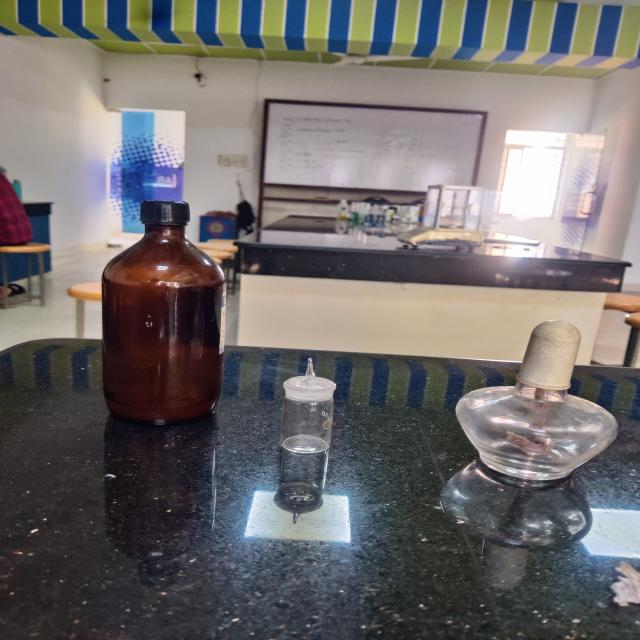Nessler_Reagent_Bottle: (86, 193, 245, 431)
Spirit_Lamp: (442, 311, 628, 490)
Weighing_Bottle: (278, 352, 350, 472)
